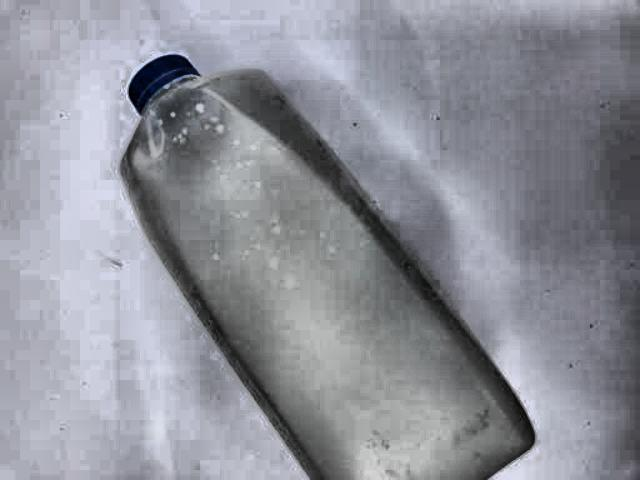Plastic: (106, 40, 535, 480)
